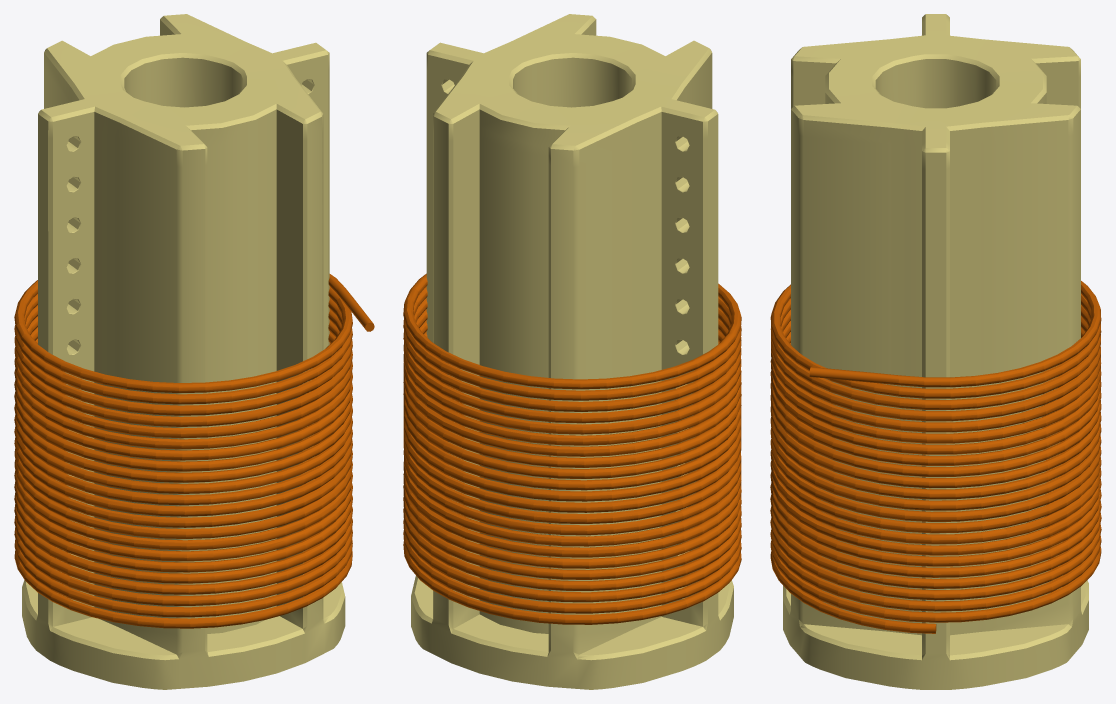
The model's file is ind013.fbx.
The picture shows the model from 3 angles, left to right: view 1: azimuth 30°, elevation 25°; view 2: azimuth 150°, elevation 25°; view 3: azimuth 270°, elevation 25°; orthographic projection.
Visible parts, largest first — view 1: ind013_LOD0; view 2: ind013_LOD0; view 3: ind013_LOD0.
Part boxes in pixels (box(x1,y1,x2,y2)): ind013_LOD0: box(14, 14, 374, 689); ind013_LOD0: box(403, 14, 741, 689); ind013_LOD0: box(770, 14, 1101, 689).
Size of what is drawn, in the model's own units: 1.38 by 2.42 by 1.35.
